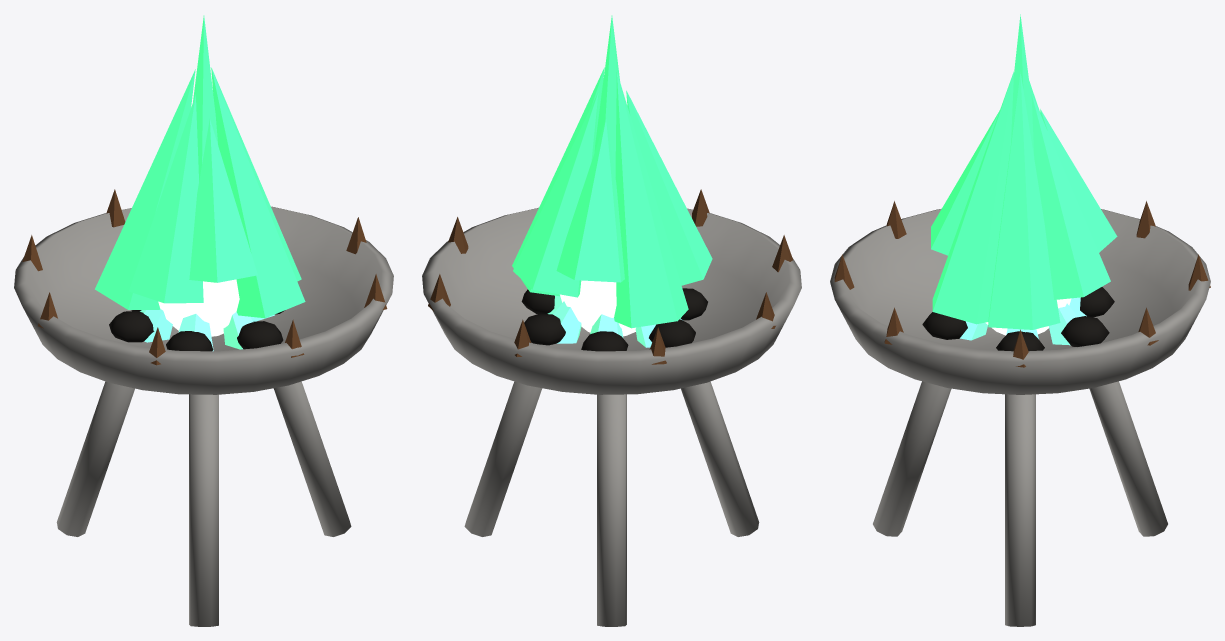
The model's file is signalfeuer.glb.
3 views of the same model, side by side, from view 1: azimuth 30°, elevation 25°; view 2: azimuth 150°, elevation 25°; view 3: azimuth 270°, elevation 25° (orthographic).
Parts seen in each view (by area): view 1: Cone; view 2: Cone; view 3: Cone.
Part boxes in pixels (box(x1,y1,x2,y2)): Cone: box(14, 15, 393, 626); Cone: box(422, 15, 801, 626); Cone: box(830, 14, 1210, 626).
Size of the model in its own units: 1.24 by 1.98 by 1.24.
